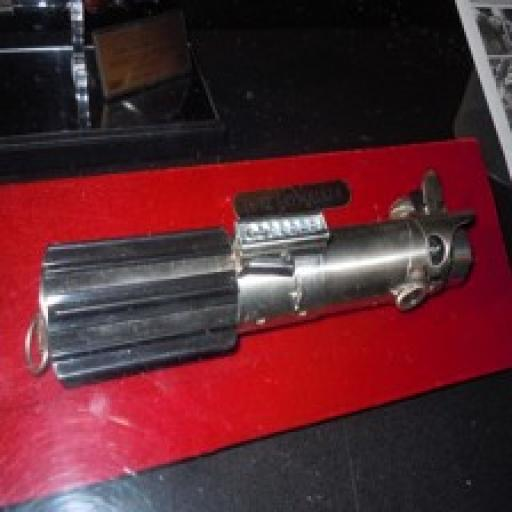lightsaber: (24, 163, 482, 404)
